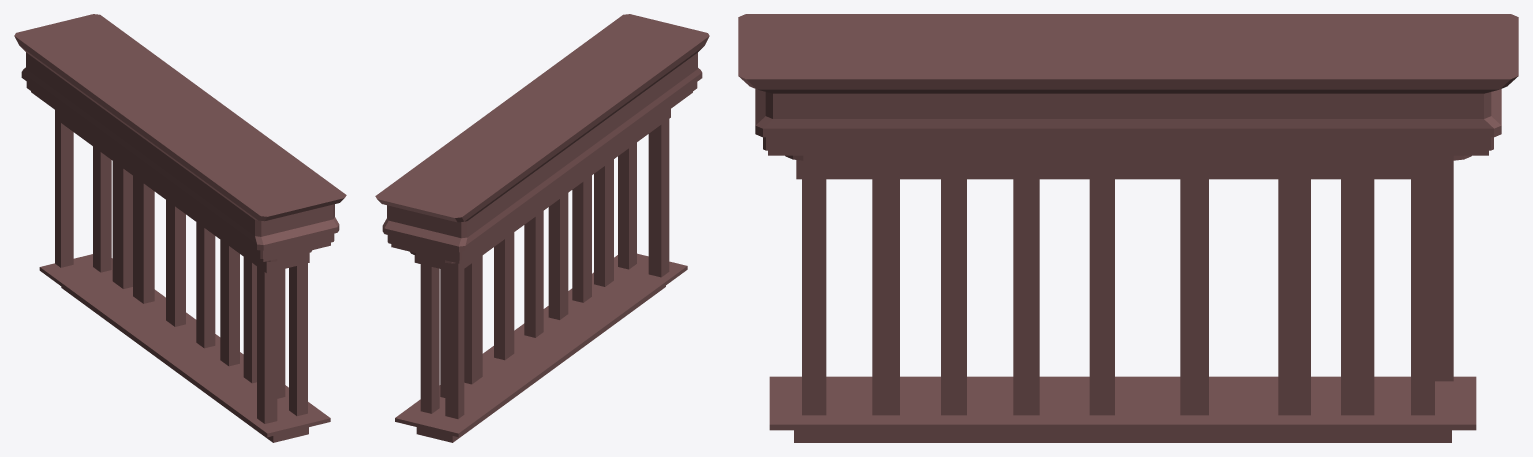
Rendered from Ventana.fbx.
3 views of the same model, side by side, from view 1: azimuth 30°, elevation 25°; view 2: azimuth 150°, elevation 25°; view 3: azimuth 270°, elevation 25° (orthographic). The views are drawn at different scales.
Parts seen in each view (by area): view 1: pasted__pCube36; view 2: pasted__pCube36; view 3: pasted__pCube36.
Part boxes in pixels (left/top/right/bottom): pasted__pCube36: left=14, top=14, right=346, bottom=442; pasted__pCube36: left=375, top=14, right=709, bottom=442; pasted__pCube36: left=738, top=14, right=1518, bottom=442.
Size of the model in its own units: 6.28 by 17.1 by 31.79.
